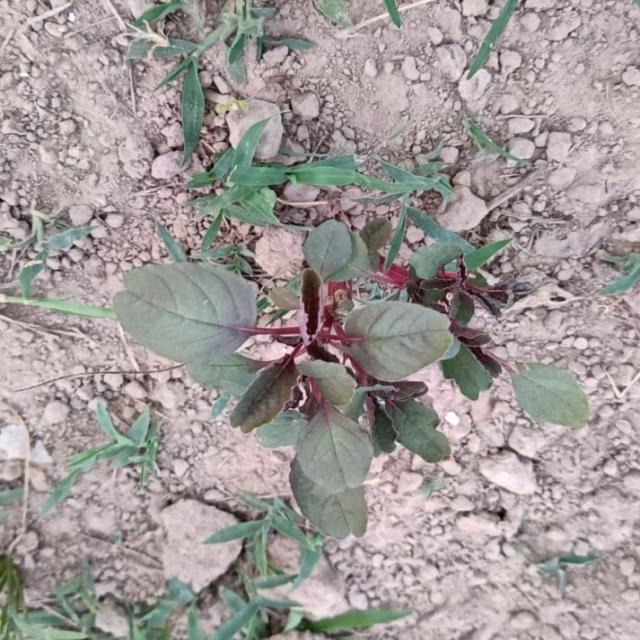plant: (113, 220, 588, 536)
